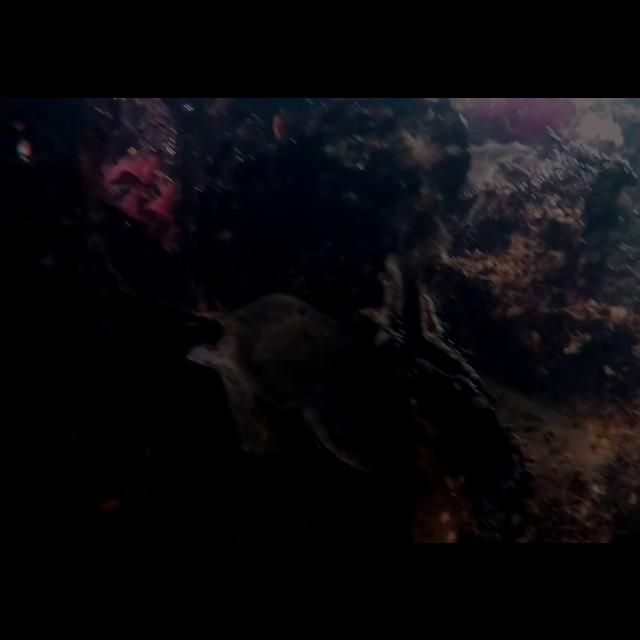Oyster-Closed: (224, 290, 388, 470)
Oyster-Open: (361, 250, 493, 418)
